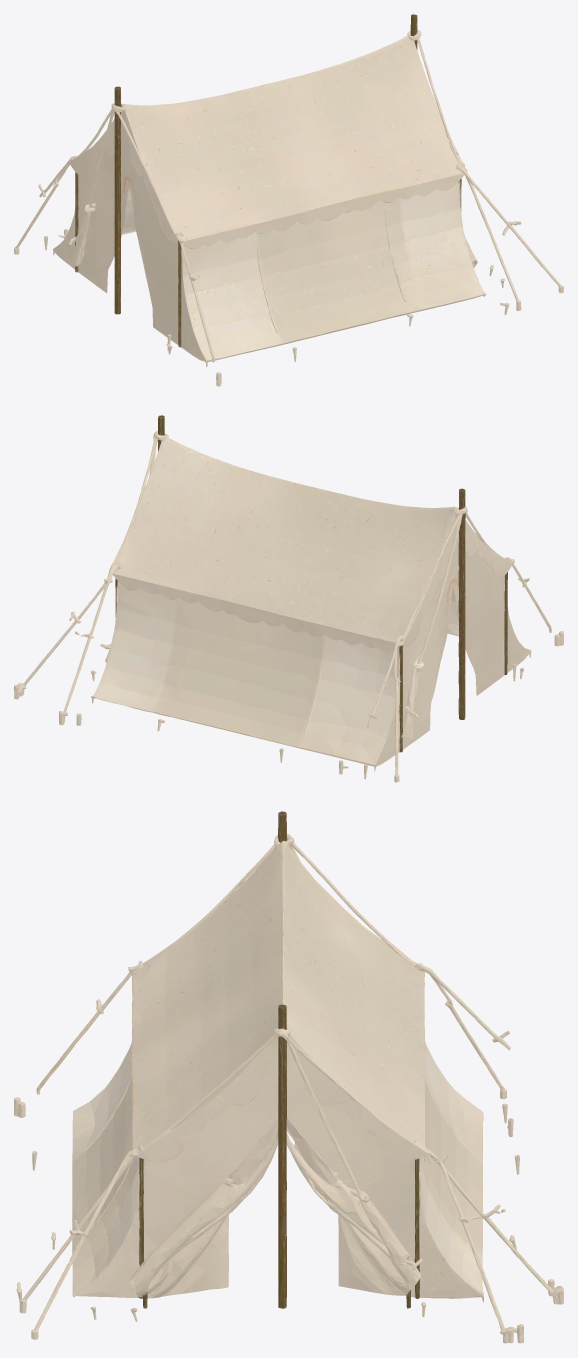
The model's file is tent.glb.
3 views of the same model, one above another, from view 1: azimuth 30°, elevation 25°; view 2: azimuth 150°, elevation 25°; view 3: azimuth 270°, elevation 25° (orthographic). The views are drawn at different scales.
Parts seen in each view (by area): view 1: geometry_0; view 2: geometry_0; view 3: geometry_0.
Boxes of the visible parts, x1,y1,x2,y2 form: geometry_0: [14, 14, 563, 386]; geometry_0: [14, 415, 563, 782]; geometry_0: [14, 811, 563, 1343].
Bounding box in the file's own units: 1 × 0.5794 × 0.9547.
1 material, 1 textured.
